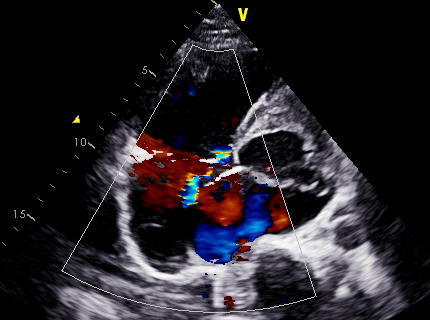TR: (179, 140, 245, 234)
